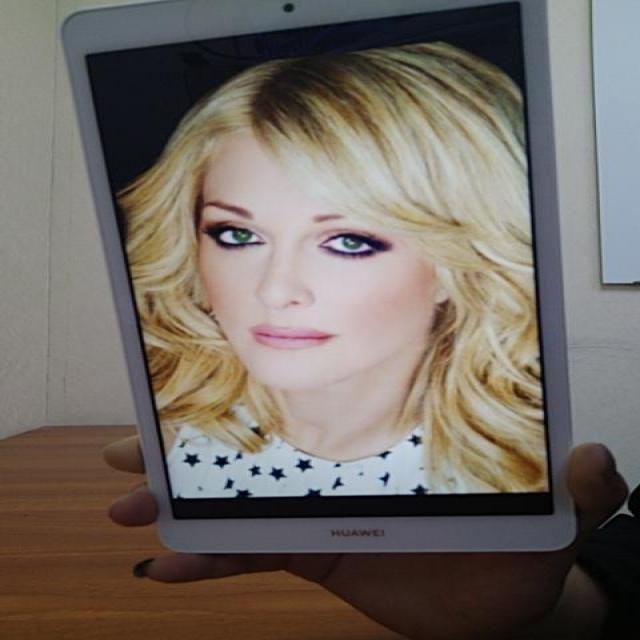device: (59, 2, 596, 561)
